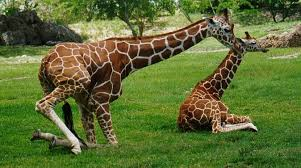Jirafa: (194, 9, 245, 54), (235, 30, 281, 64)
